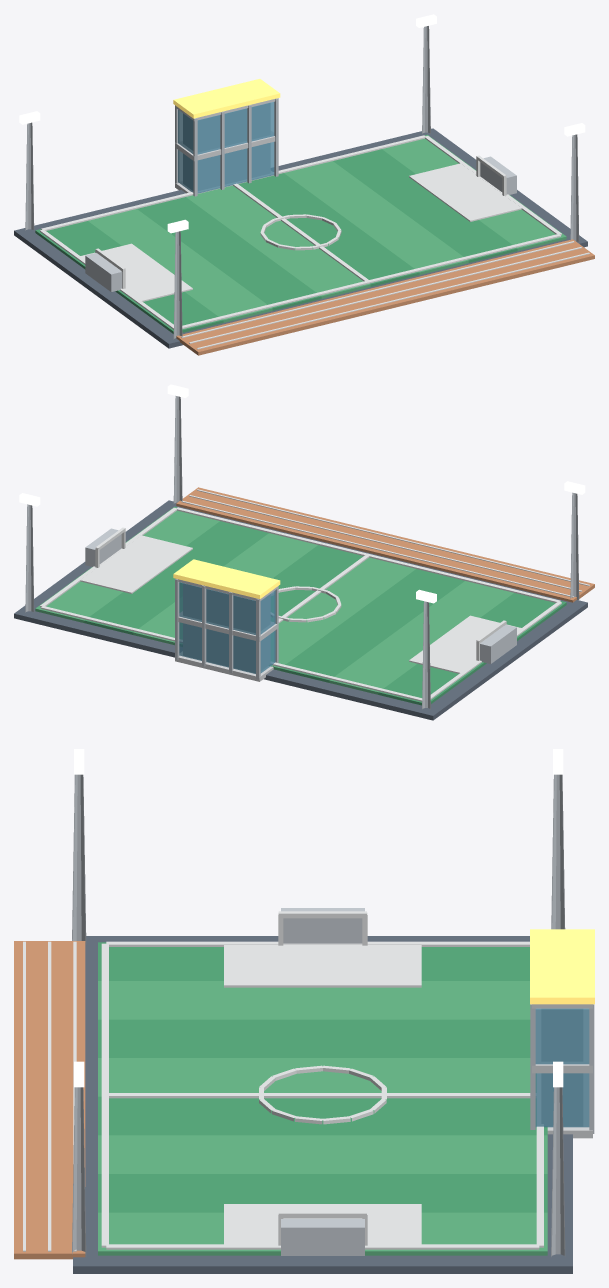
File: first_team_pitch_beta.glb
3 renders of one model, top to bottom at view 1: azimuth 30°, elevation 25°; view 2: azimuth 150°, elevation 25°; view 3: azimuth 270°, elevation 25°, orthographic. The views are drawn at different scales.
Visible parts, largest first — view 1: first_team_pitch_beta; view 2: first_team_pitch_beta; view 3: first_team_pitch_beta.
Boxes of the visible parts, x1,y1,x2,y2 form: first_team_pitch_beta: (14,14,594,355); first_team_pitch_beta: (14,384,594,720); first_team_pitch_beta: (14,749,594,1273).
Bounding box in the file's own units: 3.72 × 1.03 × 2.76.
